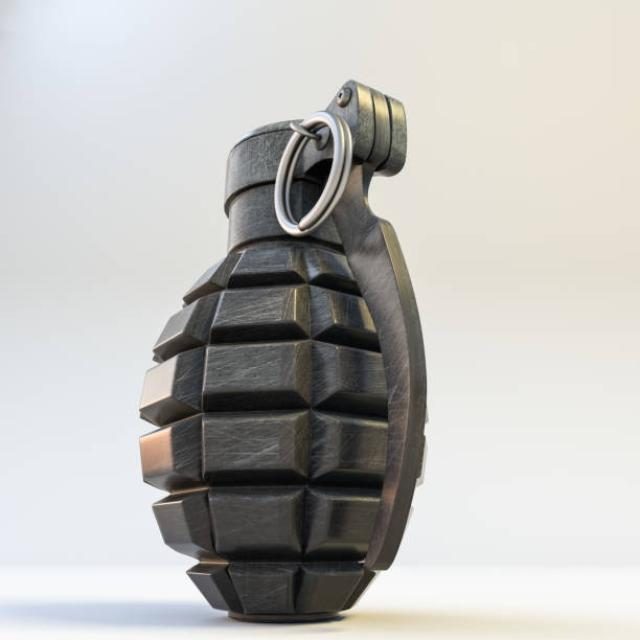grenade: (124, 76, 439, 628)
